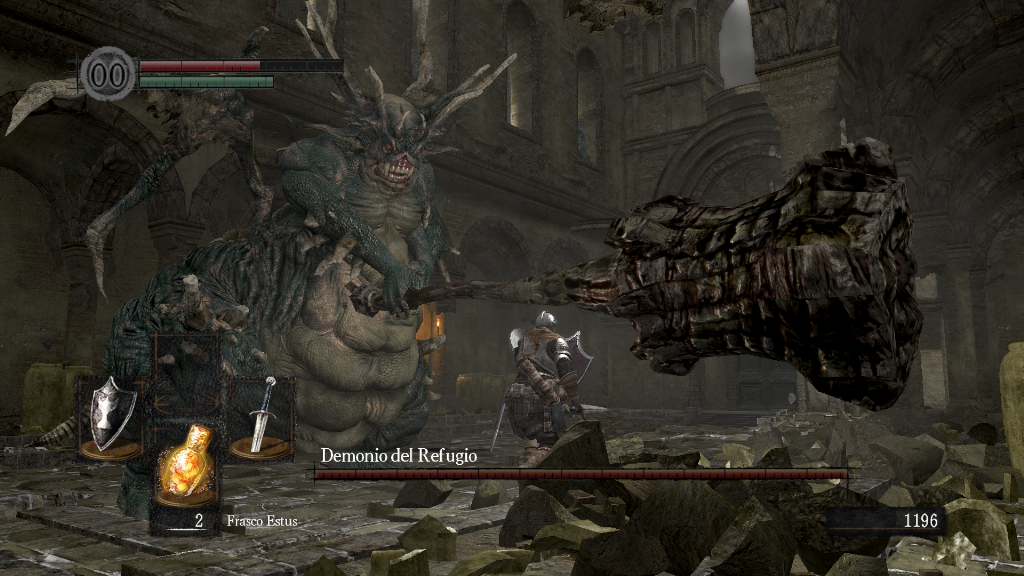asylumDemon: (4, 3, 518, 453)
bossHP: (314, 469, 847, 479)
health: (138, 58, 343, 71)
humanity: (80, 45, 136, 102)
player: (508, 309, 594, 466)
souls: (825, 506, 945, 536)
stamina: (138, 74, 274, 88)
